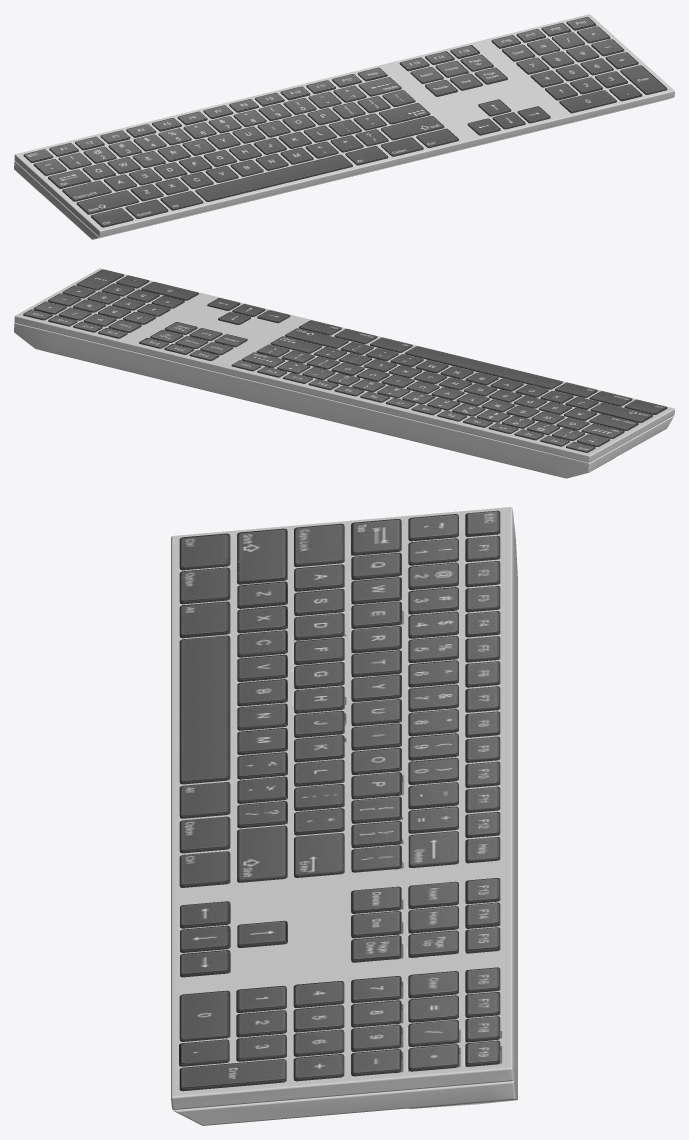
The model's file is Keyboard.fbx.
3 renders of one model, top to bottom at view 1: azimuth 30°, elevation 25°; view 2: azimuth 150°, elevation 25°; view 3: azimuth 270°, elevation 25°, orthographic. The views are drawn at different scales.
Visible parts, largest first — view 1: keys; view 2: keys; view 3: keys.
Boxes of the visible parts, box(x1,y1,x2,y2) form: keys: box(14, 14, 674, 239); keys: box(14, 268, 674, 478); keys: box(171, 507, 517, 1125).
Size of the model in its own units: 45.73 by 2.27 by 11.94.
